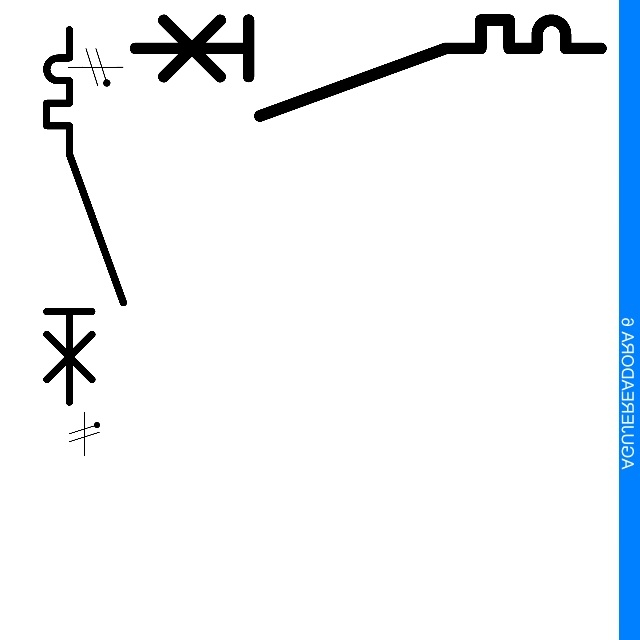interruptor_termomagnetico: (123, 8, 613, 128), (37, 20, 133, 412)
